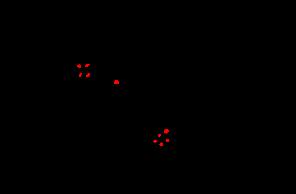Target: (164, 129, 169, 134), (114, 80, 119, 84), (77, 64, 81, 68), (86, 73, 90, 77), (159, 142, 163, 146), (85, 64, 90, 67), (79, 73, 82, 77), (153, 140, 157, 143), (158, 134, 161, 137), (166, 139, 169, 142)
